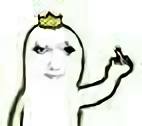dragon: (31, 40, 76, 82)
